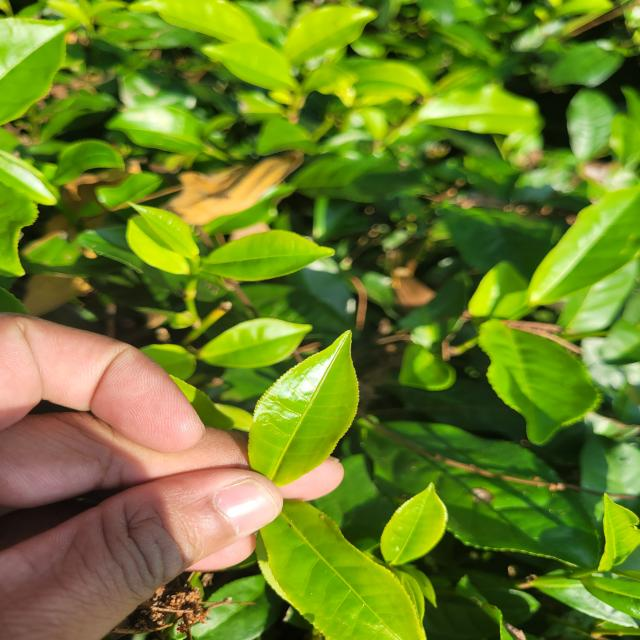Catagory A(1-2 days): (218, 323, 399, 515)
